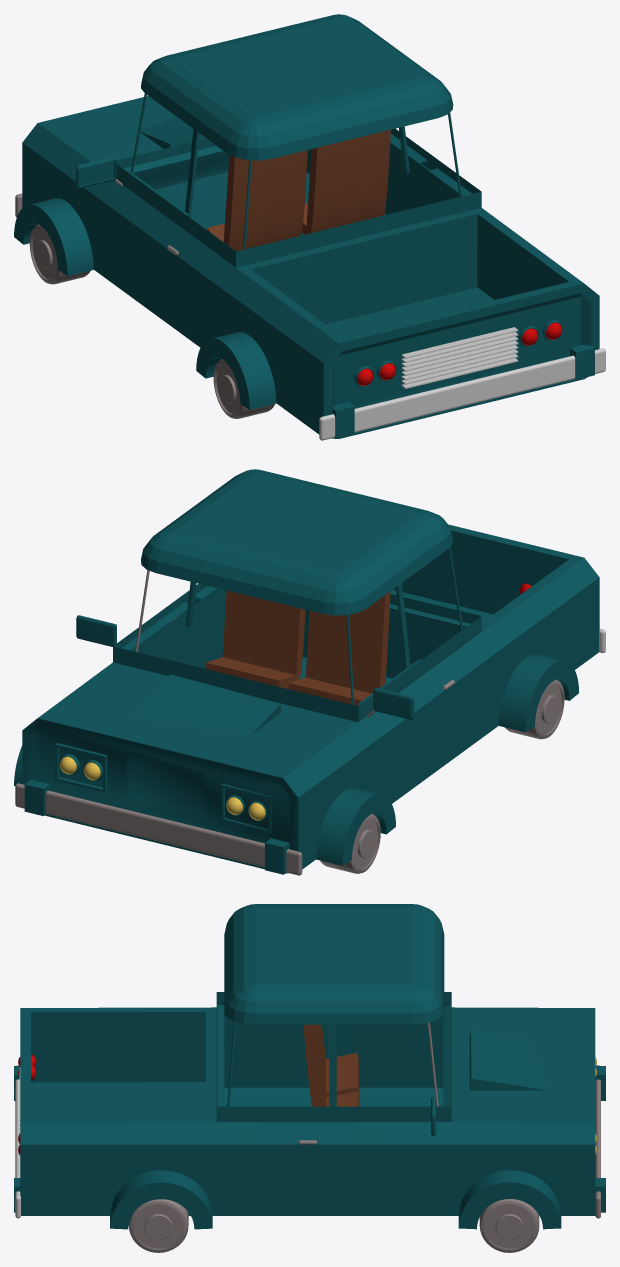
Rendered from Truck.fbx.
The picture shows the model from 3 angles, top to bottom: view 1: azimuth 30°, elevation 25°; view 2: azimuth 150°, elevation 25°; view 3: azimuth 270°, elevation 25°; orthographic projection. The views are drawn at different scales.
Parts seen in each view (by area): view 1: Carosserie, TOIT, Extrusion, Extrusion_1, Cube_1_4_2, Extrusion_contrôlée_4, Extrusion_contrôlée, Cylindre_2_3, Cylindre_1_2, Capooo, Cube_5, Cube_2_2 (+12 smaller); view 2: Carosserie, TOIT, Extrusion, Extrusion_1, Cube_1_5_2, Capooo, Extrusion_contrôlée_4, Extrusion_contrôlée, Cylindre_2_3, Cylindre_1_2, Cube_5, Cube_4 (+7 smaller); view 3: Carosserie, TOIT, Capooo, Extrusion_contrôlée_3, Extrusion_contrôlée_1, Cylindre_3_2, Cylindre_2_2, Extrusion, Couvercle_1, Extrusion_1, Cube_1_5_2, Cube_1 (+1 smaller).
Part boxes in pixels (x1,y1,x2,y2): Carosserie: [22, 96, 599, 438]; TOIT: [141, 14, 453, 160]; Extrusion: [207, 150, 307, 251]; Extrusion_1: [303, 129, 390, 232]; Cube_1_4_2: [319, 348, 605, 440]; Extrusion_contrôlée_4: [196, 332, 276, 409]; Extrusion_contrôlée: [14, 198, 93, 276]; Cylindre_2_3: [29, 224, 90, 284]; Cylindre_1_2: [213, 359, 274, 418]; Capooo: [140, 117, 206, 148]; Cube_5: [76, 156, 116, 188]; Cube_2_2: [570, 345, 594, 379]; Carosserie: [22, 524, 599, 873]; TOIT: [141, 469, 453, 615]; Extrusion: [288, 595, 385, 706]; Extrusion_1: [205, 590, 300, 686]; Cube_1_5_2: [15, 783, 302, 875]; Capooo: [129, 674, 281, 736]; Extrusion_contrôlée_4: [499, 654, 578, 732]; Extrusion_contrôlée: [316, 788, 395, 865]; Cylindre_2_3: [320, 814, 380, 873]; Cylindre_1_2: [505, 679, 564, 739]; Cube_5: [373, 687, 414, 719]; Cube_4: [76, 615, 116, 646]; Carosserie: [20, 992, 595, 1215]; TOIT: [224, 904, 444, 1024]; Capooo: [469, 1029, 549, 1090]; Extrusion_contrôlée_3: [110, 1170, 212, 1229]; Extrusion_contrôlée_1: [458, 1170, 561, 1229]; Cylindre_3_2: [479, 1199, 539, 1252]; Cylindre_2_2: [128, 1199, 188, 1252]; Extrusion: [317, 1024, 359, 1097]; Couvercle_1: [303, 1024, 322, 1106]; Extrusion_1: [312, 1024, 359, 1106]; Cube_1_5_2: [595, 1065, 600, 1218]; Cube_1: [329, 1024, 336, 1106].
Bounding box in the file's own units: 489 × 337 × 778.
